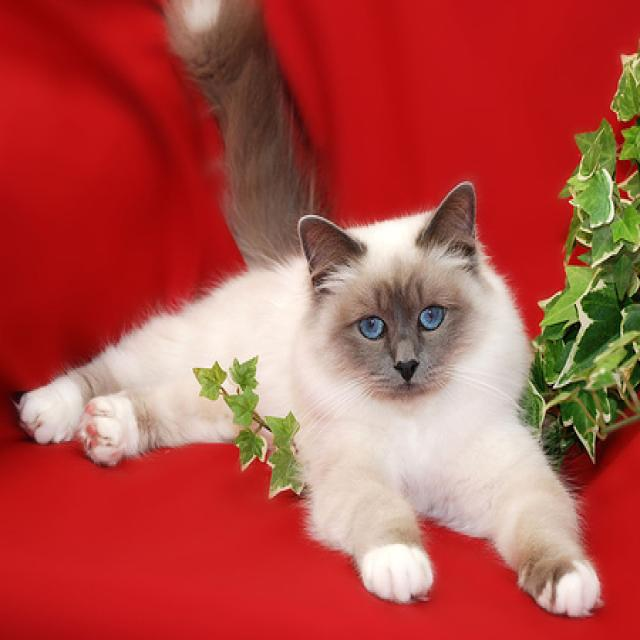Birman: (14, 0, 603, 620)
